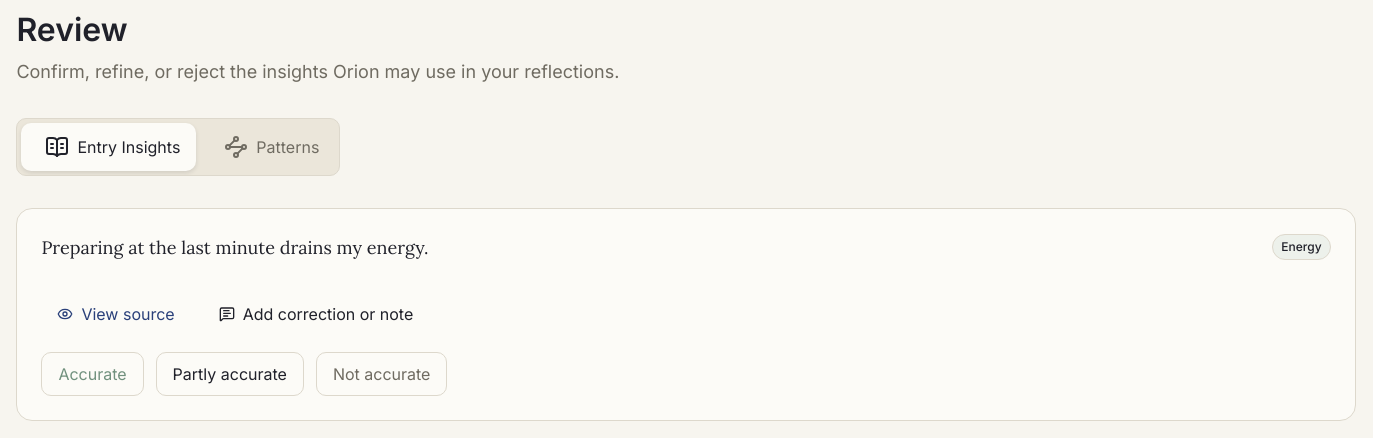
Test case: ReviewScreen › switches scopes and requests every pending category from page one
Check: the text "Preparing at the last minute drains my energy." is shown, box x1=41 y1=236 x2=428 y2=259
Click the radio button labelled "Patterns".
click(268, 147)  # box x1=200 y1=123 x2=335 y2=171
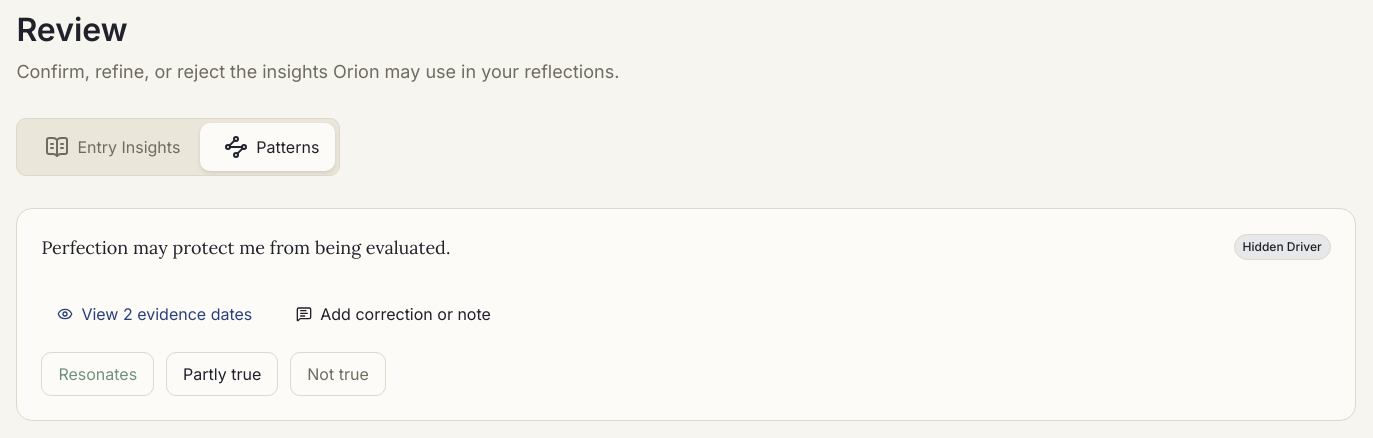
Check: the text "Perfection may protect me from being evaluated." is shown, box x1=41 y1=236 x2=450 y2=259
